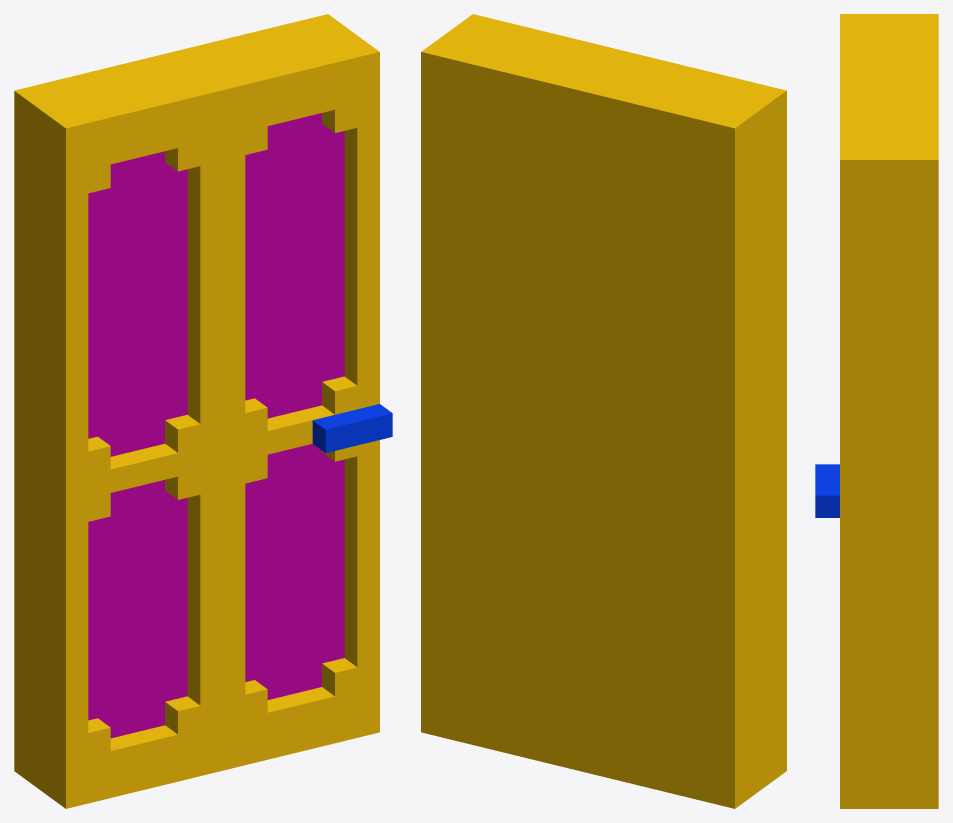
Rendered from porta.obj.
3 renders of one model, left to right at view 1: azimuth 30°, elevation 25°; view 2: azimuth 150°, elevation 25°; view 3: azimuth 270°, elevation 25°, orthographic. The views are drawn at different scales.
Size of the model in its own units: 1.4 by 2.9 by 0.5.
1 material, 1 textured.
